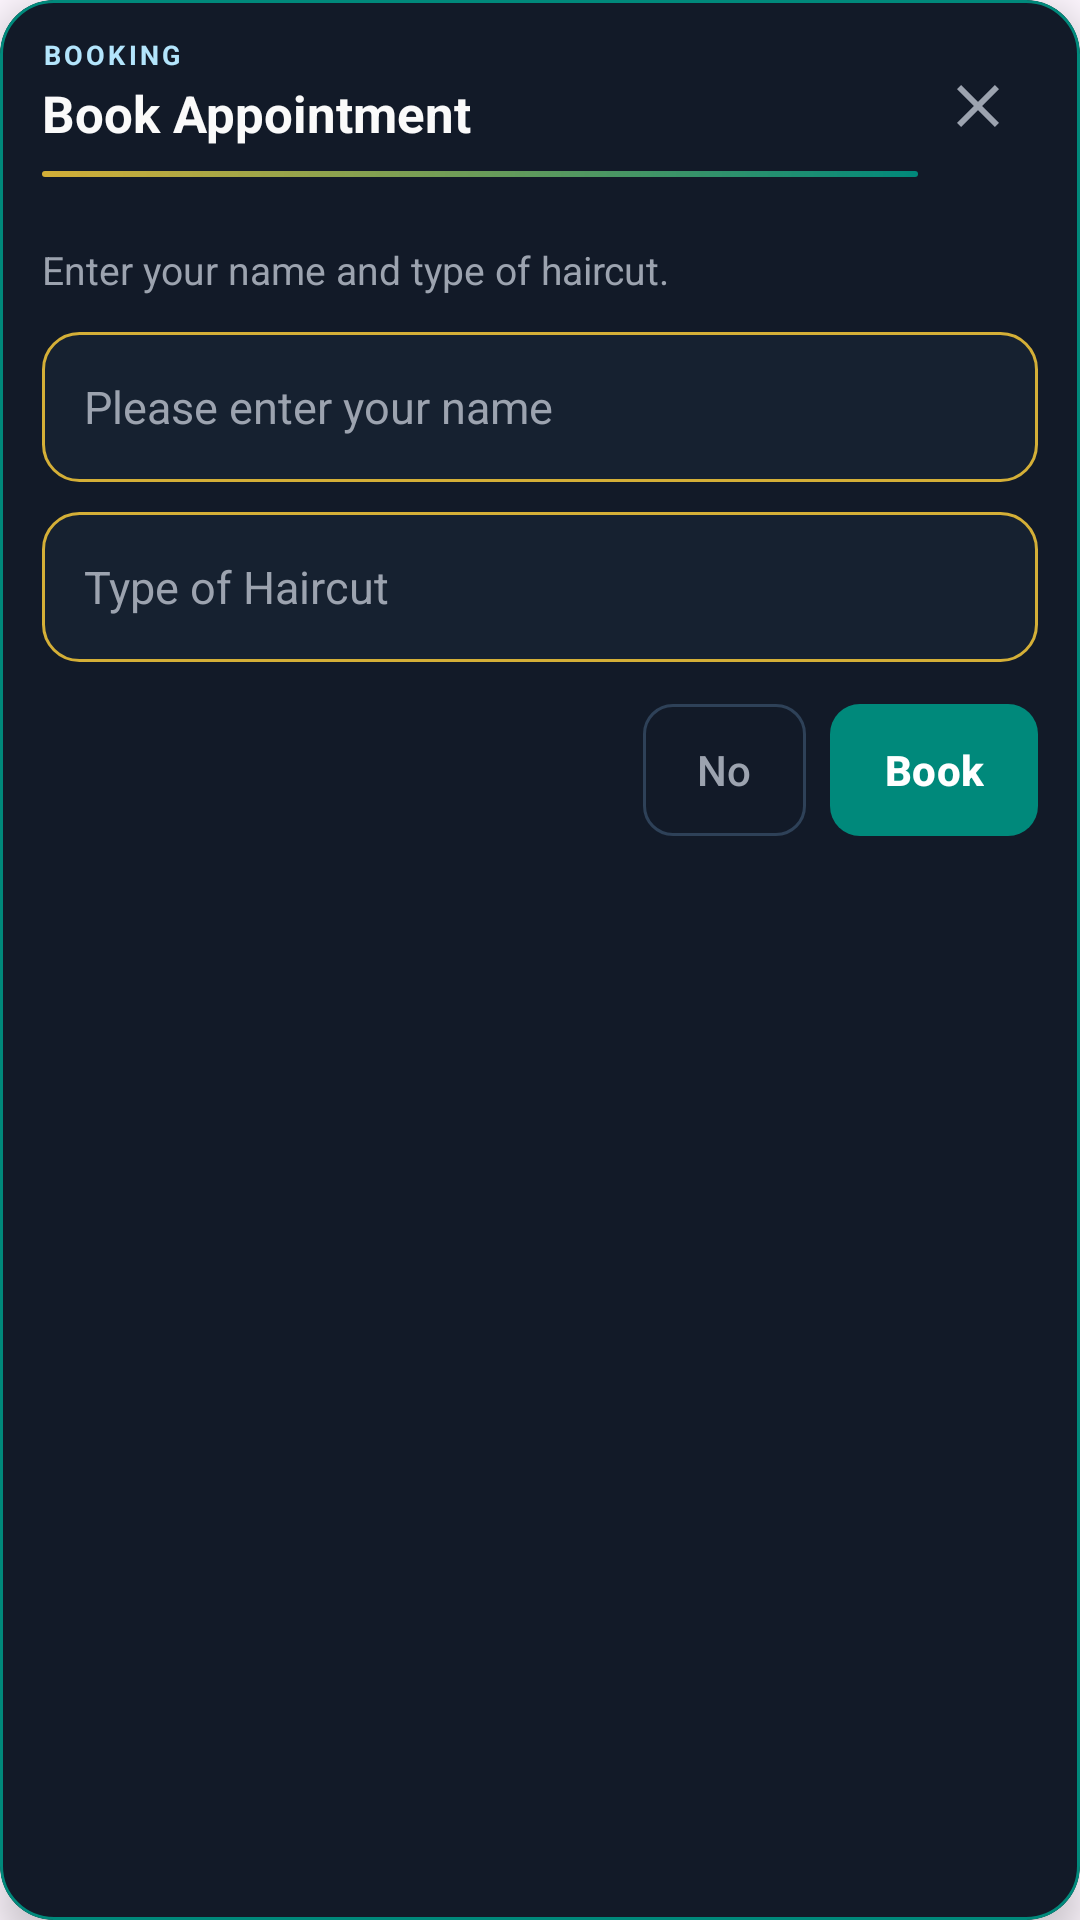

Icons on this 1080×1920 Android screen, each with the point to tap as point (x, y):
Close: point (978, 106)
